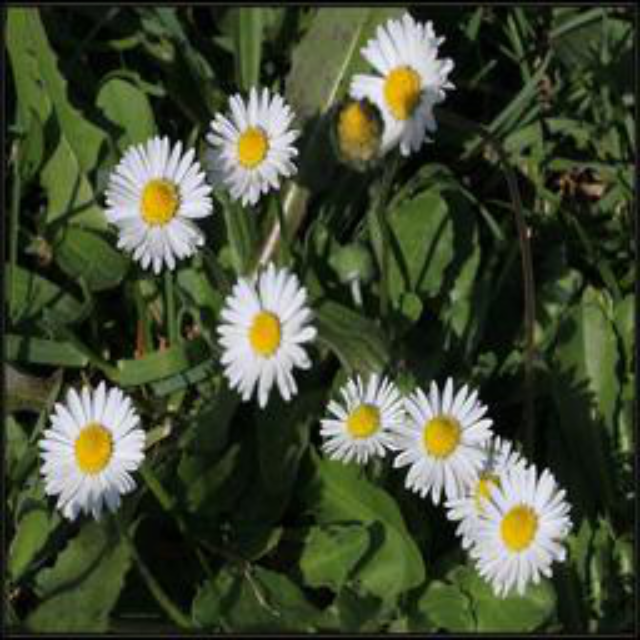daisy: (30, 377, 151, 529), (345, 12, 458, 157), (101, 133, 217, 269), (214, 261, 320, 407), (470, 464, 575, 599), (199, 86, 307, 204), (391, 375, 495, 493), (320, 369, 408, 474)
